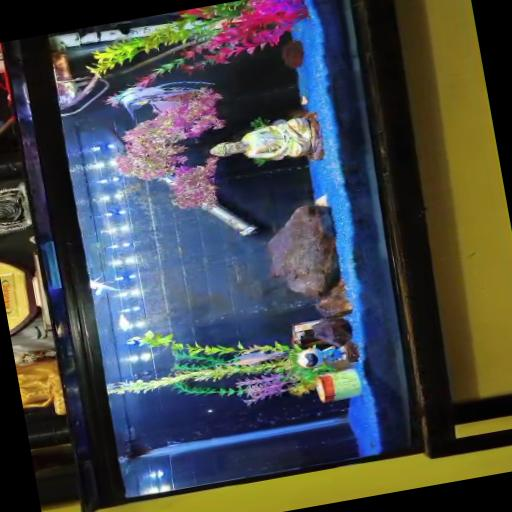Fish: (106, 80, 212, 116), (229, 350, 285, 364), (89, 275, 118, 294), (119, 313, 133, 330), (301, 95, 308, 104)
